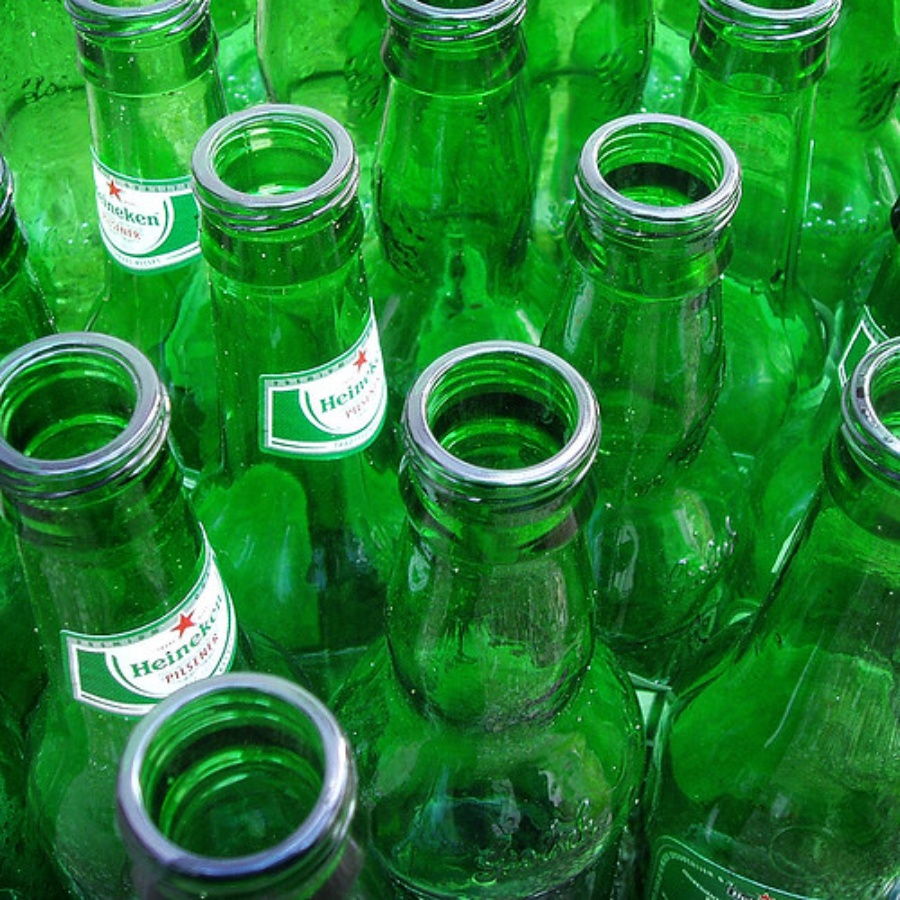beer: (351, 365, 690, 900), (175, 129, 398, 707), (19, 325, 200, 900)
